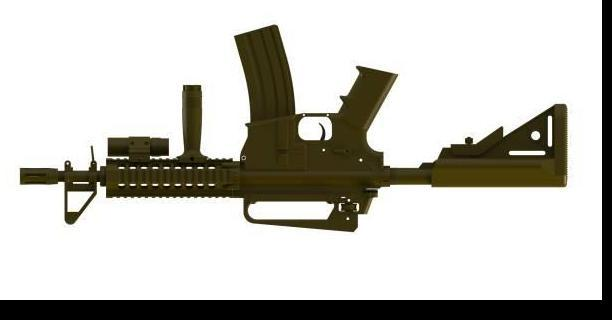larga: (20, 23, 568, 232)
